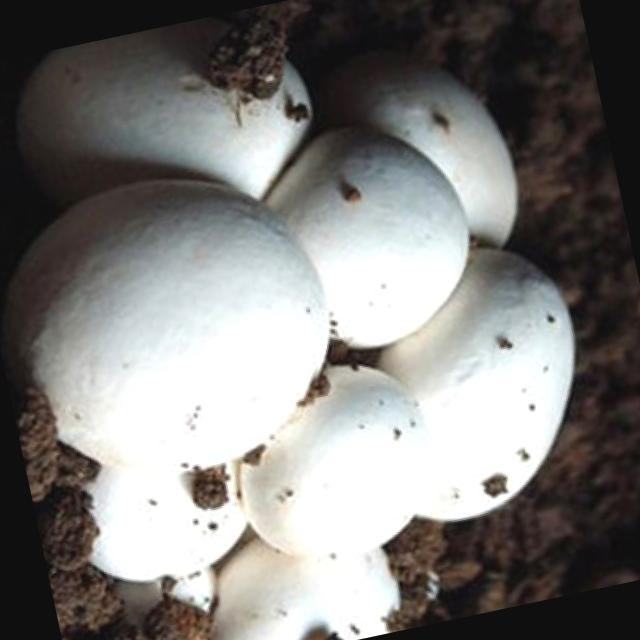Agaricus bisporus: (1, 124, 357, 525), (374, 241, 616, 554), (270, 91, 480, 362), (232, 349, 449, 577)
